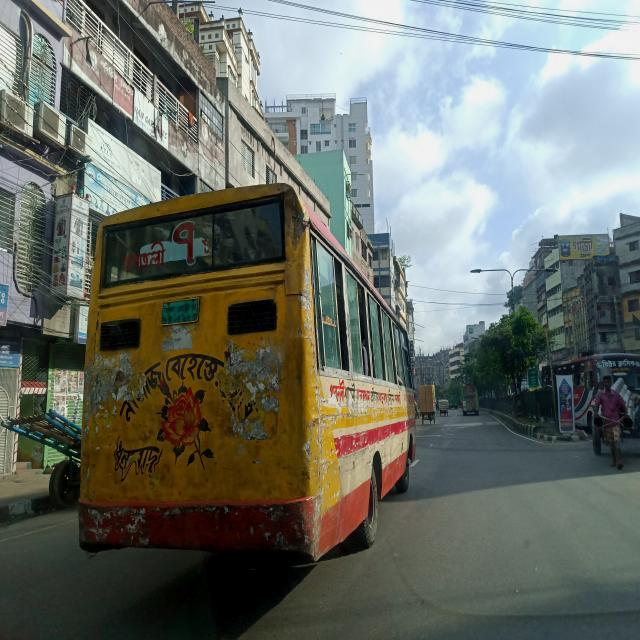bus: (79, 184, 416, 566)
